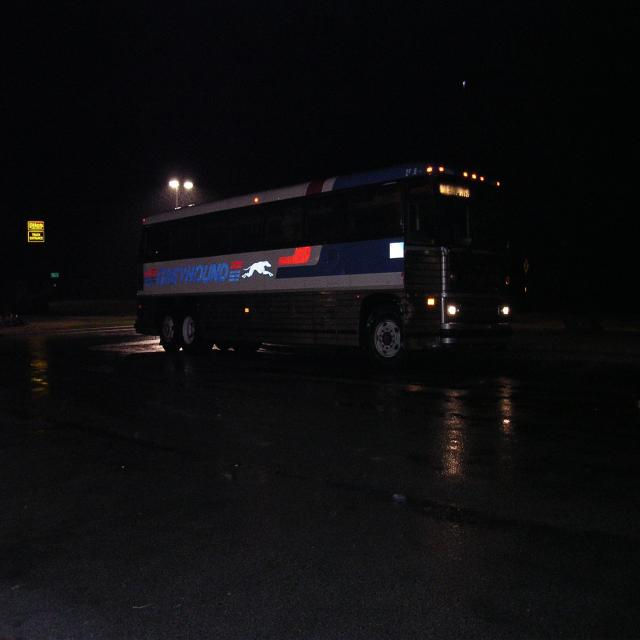Bus: (99, 155, 530, 366)
